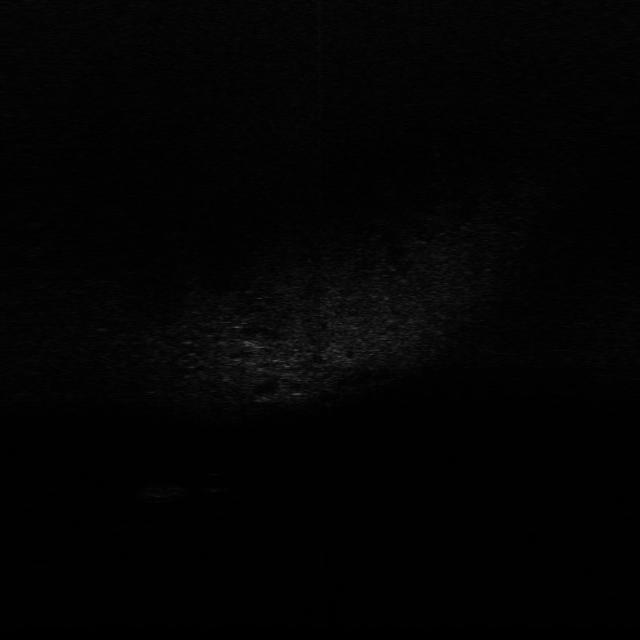ball: (200, 467, 234, 494)
circle cage: (136, 477, 188, 507)
